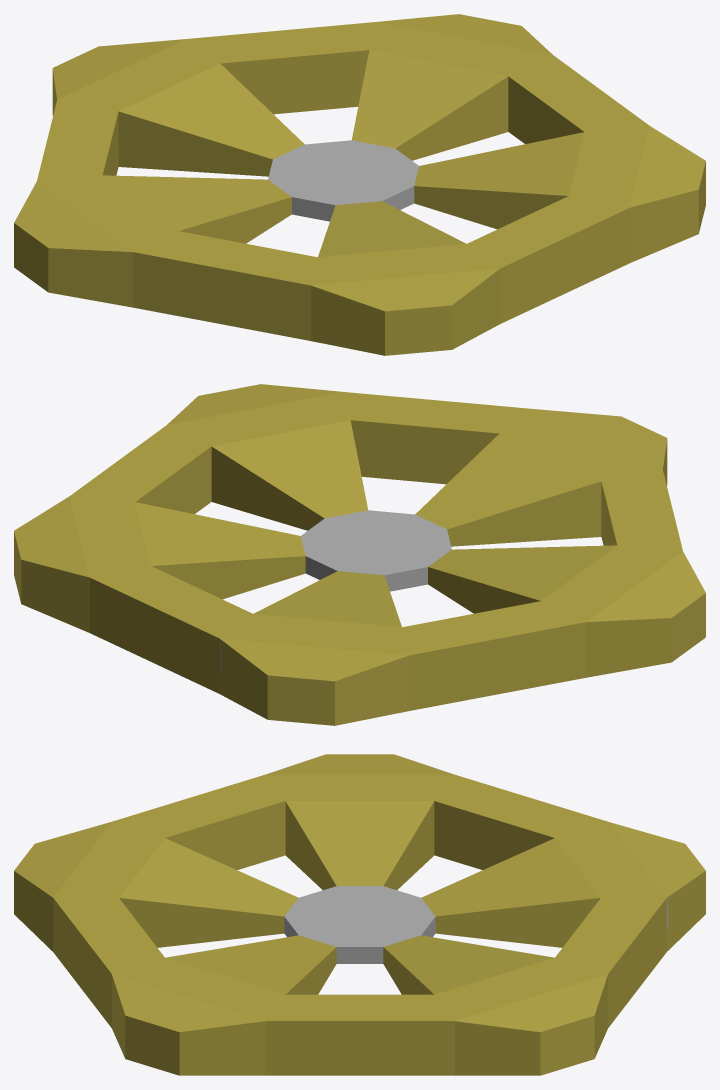
File: EngrenagemLowPoly01.fbx
3 renders of one model, top to bottom at view 1: azimuth 30°, elevation 25°; view 2: azimuth 150°, elevation 25°; view 3: azimuth 270°, elevation 25°, orthographic. The views are drawn at different scales.
Parts seen in each view (by area): view 1: Cylinder; view 2: Cylinder; view 3: Cylinder.
Boxes of the visible parts, box(x1,y1,x2,y2) form: Cylinder: box(14, 14, 705, 355); Cylinder: box(14, 384, 705, 725); Cylinder: box(14, 754, 705, 1075).
Size of the model in its own units: 430 by 39.22 by 452.
1 material, 1 textured.
